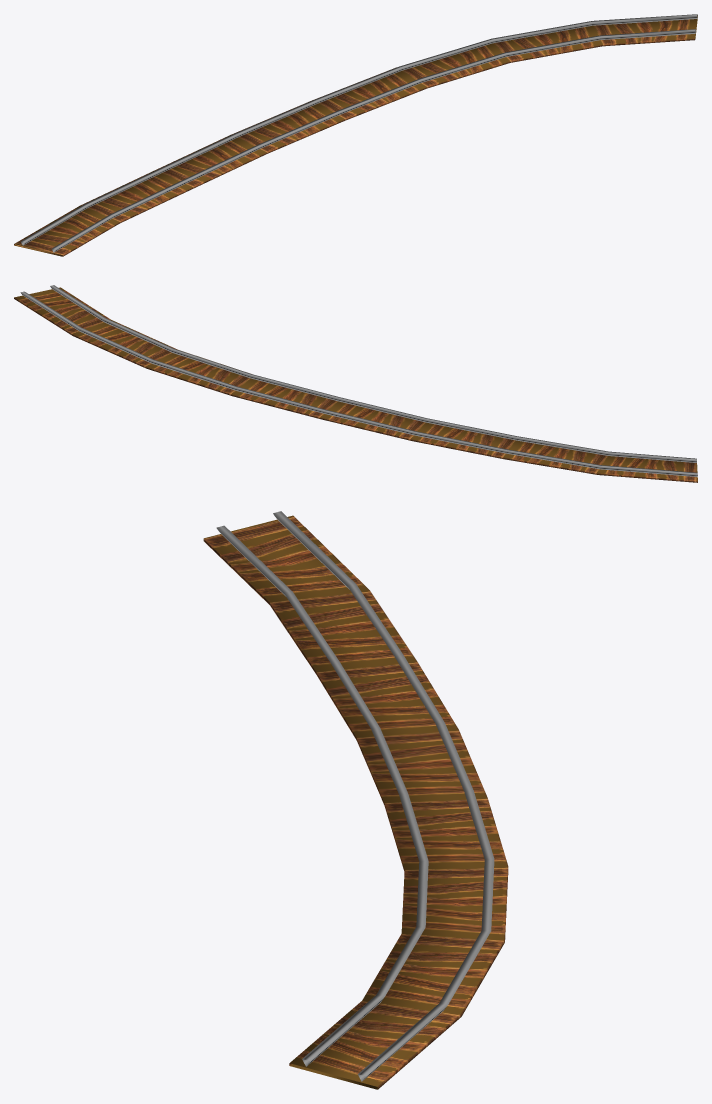
File: SWORDLIGHT20_MAIN1RAILS1SE.fbx
3 views of the same model, one above another, from view 1: azimuth 30°, elevation 25°; view 2: azimuth 150°, elevation 25°; view 3: azimuth 270°, elevation 25° (orthographic). The views are drawn at different scales.
Parts seen in each view (by area): view 1: SWORDLIGHT20_MAIN1RAILS1SE; view 2: SWORDLIGHT20_MAIN1RAILS1SE; view 3: SWORDLIGHT20_MAIN1RAILS1SE.
Part boxes in pixels (left/top/right/bottom): SWORDLIGHT20_MAIN1RAILS1SE: left=14, top=14, right=697, bottom=256; SWORDLIGHT20_MAIN1RAILS1SE: left=14, top=285, right=697, bottom=482; SWORDLIGHT20_MAIN1RAILS1SE: left=203, top=511, right=508, bottom=1089.
Size of the model in its own units: 238842 by 14767 by 47566.
Materials: 2 (2 with a texture image).
